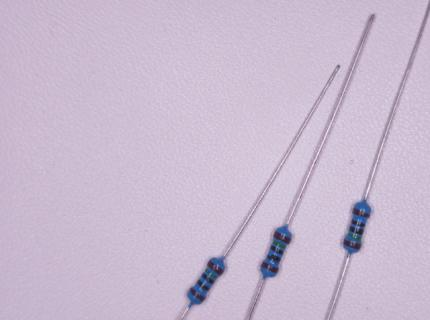Black band: (202, 272, 215, 285), (197, 279, 210, 291), (270, 245, 284, 255), (267, 254, 281, 263), (350, 226, 364, 235), (352, 219, 366, 227)
Brown band: (273, 231, 292, 244), (208, 260, 224, 275), (261, 261, 279, 274), (190, 287, 205, 301), (343, 239, 361, 250), (353, 207, 370, 218)
Green band: (205, 268, 217, 279), (273, 240, 286, 249), (348, 232, 361, 241)
